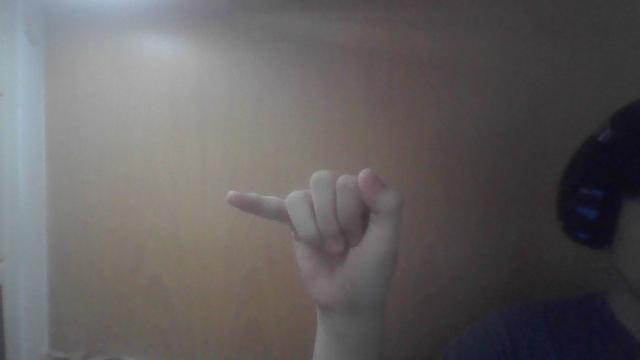Right: (222, 168, 406, 298)
